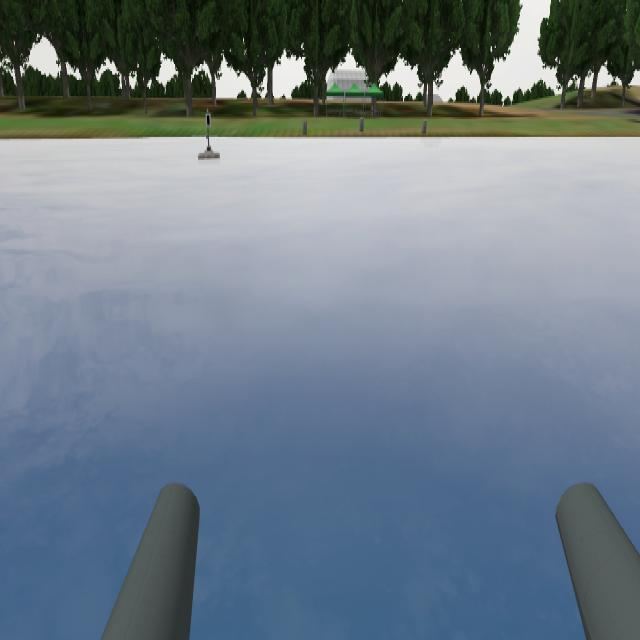black_pole: (202, 104, 216, 130)
